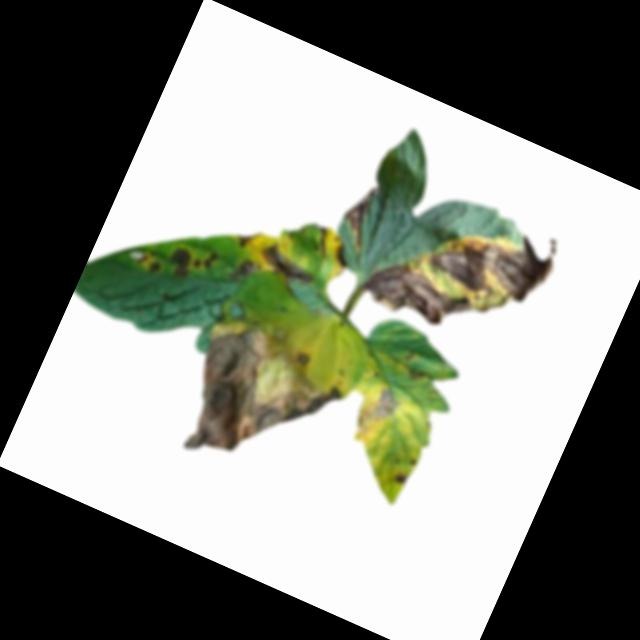Early_blight: (161, 305, 362, 501), (412, 188, 565, 314), (358, 246, 502, 352), (351, 379, 406, 447), (255, 240, 321, 292), (335, 179, 382, 244), (223, 252, 261, 288), (164, 243, 197, 279), (323, 234, 356, 270), (134, 248, 167, 276), (231, 223, 261, 253), (192, 246, 220, 275), (403, 361, 430, 384), (388, 466, 411, 488)
